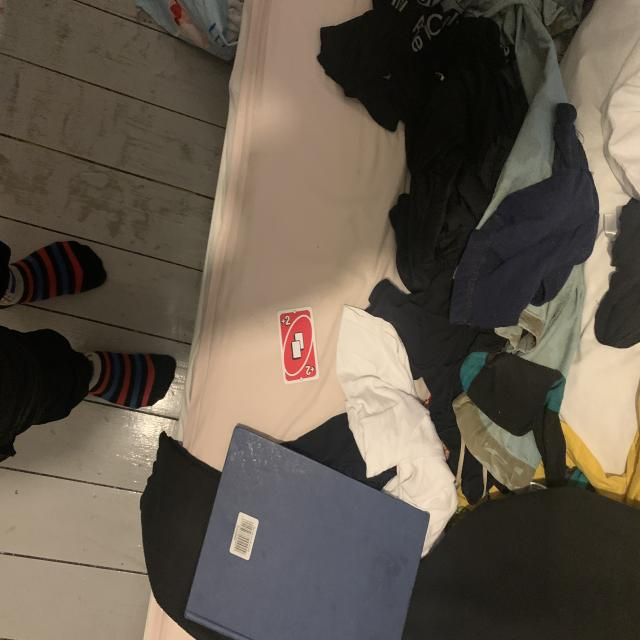lred-20: (279, 314, 292, 329)
